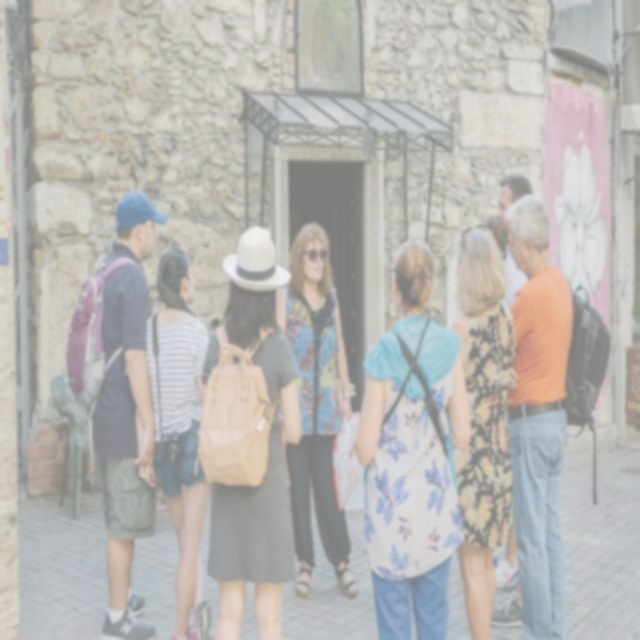pessoa: (348, 233, 473, 639), (64, 185, 170, 640), (195, 221, 306, 639), (266, 223, 362, 602), (504, 191, 576, 638), (136, 246, 216, 640), (449, 224, 517, 639), (492, 172, 534, 590), (448, 214, 525, 312), (483, 523, 532, 624)
